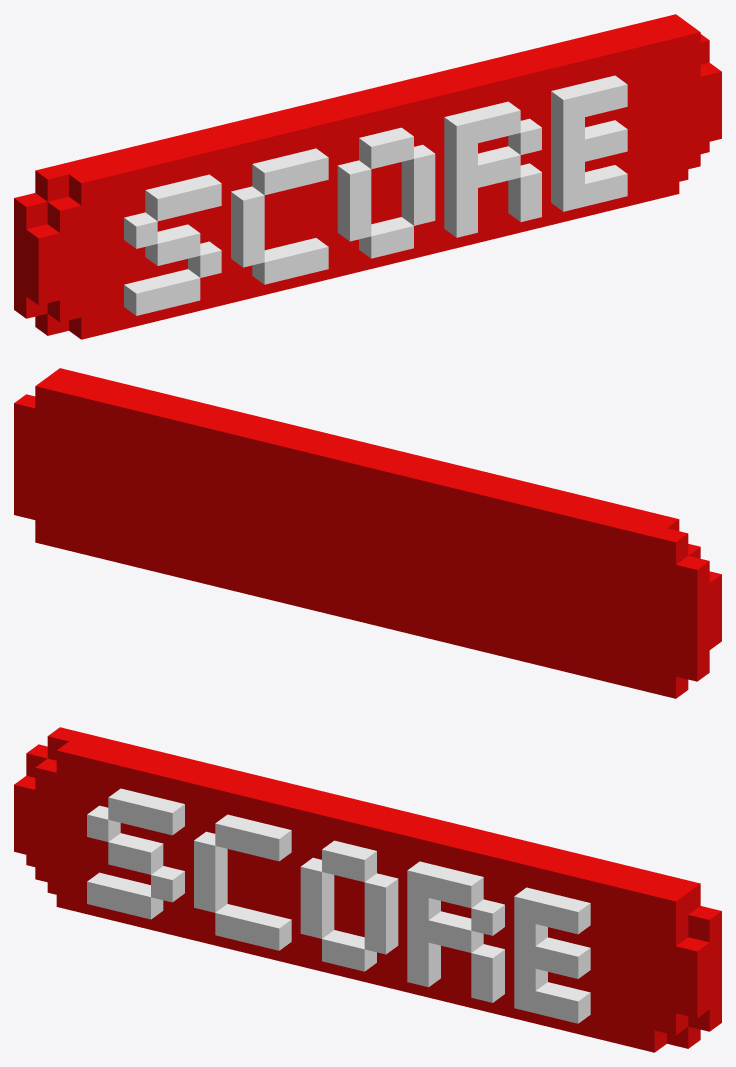
The model's file is score_board.obj.
The picture shows the model from 3 angles, top to bottom: view 1: azimuth 30°, elevation 25°; view 2: azimuth 150°, elevation 25°; view 3: azimuth 330°, elevation 25°; orthographic projection.
Visible parts, largest first — view 1: score_board; view 2: score_board; view 3: score_board.
Boxes of the visible parts, x1=… form: score_board: x1=14, y1=14, x2=721, y2=339; score_board: x1=14, y1=368, x2=721, y2=698; score_board: x1=14, y1=727, x2=721, y2=1052.
Size of the model in its own units: 32 by 7 by 3.
1 material, 1 textured.
